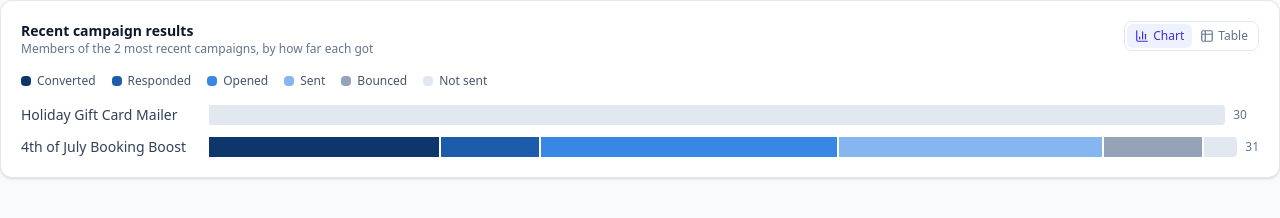
Test case: RecentCampaignsChart › switches to a table with the same numbers and a success rate
Click the button "Table" at (1224, 36), box [1192,24,1256,48]
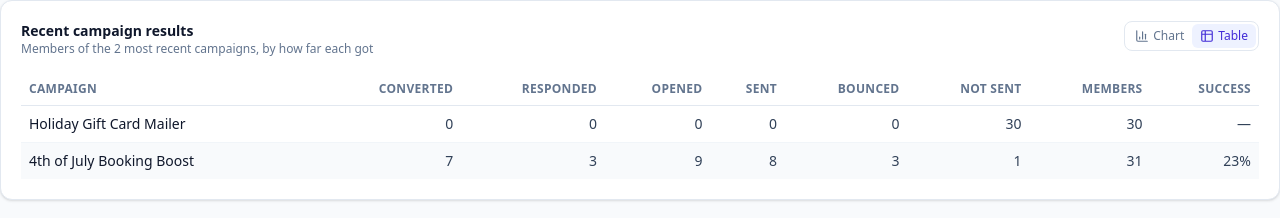
Result: the cell "—" is shown at [1150,106,1259,142]
